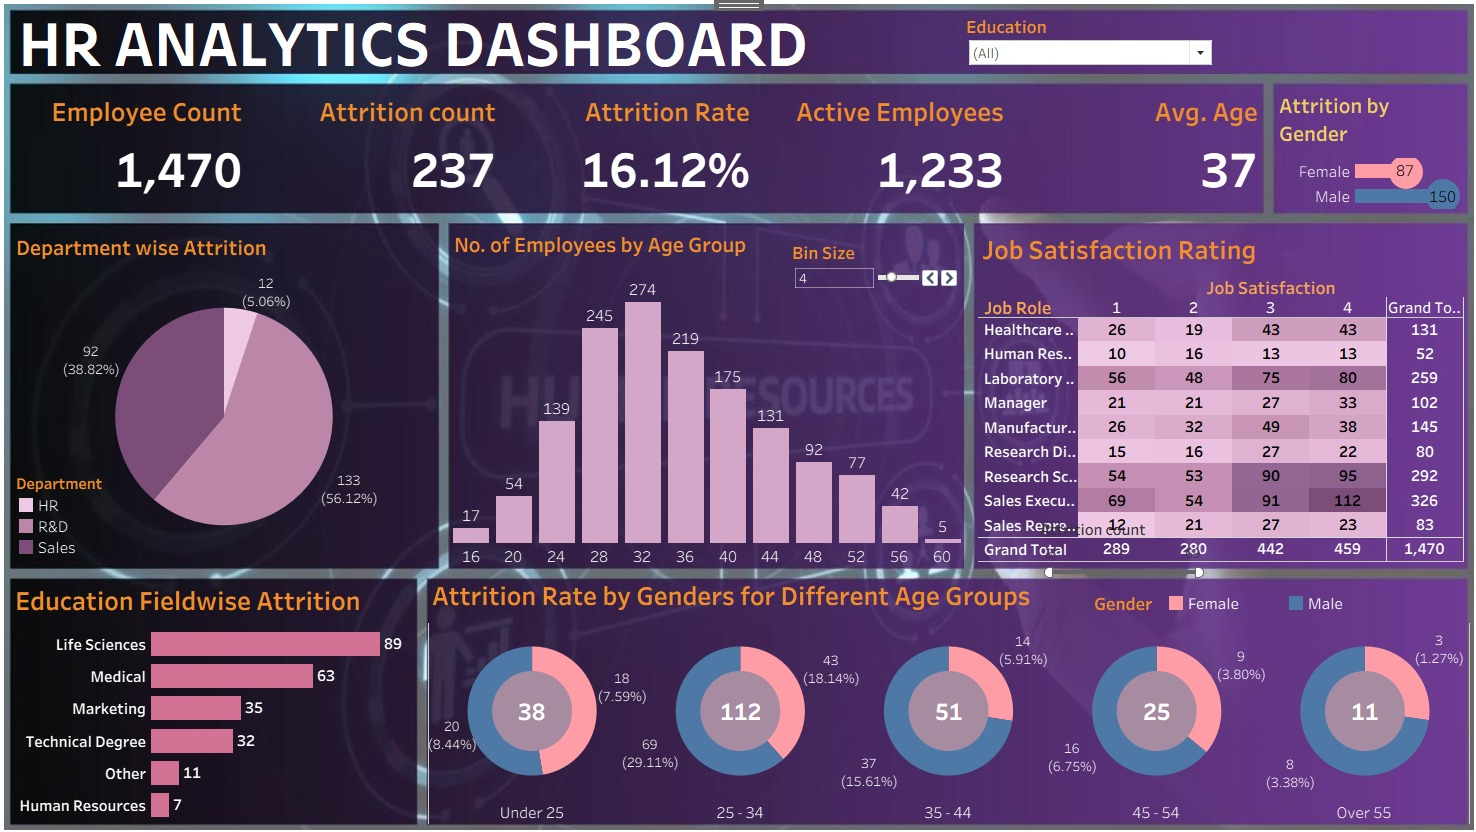

The dashboard page shown, as its layout file describes it:
{"tool":"tableau","page":{"name":"HR ANALYTICS DASHBOARD","canvas":[1000,1000],"units":"permille","ordinal":0},"visuals":[{"type":"image","param":"C:/Users/ASUS/Downloads/HR background.pptx.jpg","box":[5.1,9.4,989.9,981.2]},{"type":"text","box":[42.4,25.8,546.8,64.5]},{"type":"filter","title":"Department wise Attrition","param":"[federated.187kph103az8hl1gv0l2p1qsw0fo].[none:Education:nk]","box":[572.8,27,150,61]},{"type":"worksheet","title":"Attrition by Gender","mark":"Automatic","rows":["Gender"],"cols":["Calculation_0866152895045632","Calculation_0866152895045632"],"box":[840.5,111.5,121.5,143.2]},{"type":"worksheet","title":"KPI","mark":"Automatic","box":[39.9,112.7,789.9,142]},{"type":"worksheet","title":"No. of Employees by Age Group","mark":"Bar","rows":["Employee Count"],"cols":["Age (bin)"],"box":[318.4,274.7,321.5,402.6]},{"type":"worksheet","title":"Job Satisfaction Rating","mark":"Square","rows":["Job Role"],"cols":["Job Satisfaction"],"box":[649.4,277,307.6,392]},{"type":"worksheet","title":"Department wise Attrition","mark":"Pie","box":[39.9,278.2,267.1,390.9]},{"type":"parameter","param":"[Parameters].[Parameter 1]","box":[531.6,291.1,101.3,83.3]},{"type":"legend","title":"Department wise Attrition","param":"[federated.187kph103az8hl1gv0l2p1qsw0fo].[none:Department:nk]","box":[43,566.9,70.2,104.5]},{"type":"filter","title":"Attrition Rate by Genders for Different Age Groups","param":"[federated.187kph103az8hl1gv0l2p1qsw0fo].[sum:Calculation_0866152895045632:qk]","box":[681.6,619.7,101.3,76.3]},{"type":"worksheet","title":"Attrition Rate by Genders for Different Age Groups","mark":"Pie","rows":["Calculation_0866152919699460","Calculation_0866152919699460"],"cols":["CF_age band"],"box":[300,684.3,659.5,287.6]},{"type":"worksheet","title":"Education Fieldwise Attrition","mark":"Automatic","rows":["Education Field"],"cols":["Calculation_0866152895045632"],"box":[39.2,690.1,255.1,284]},{"type":"legend","title":"Attrition Rate by Genders for Different Age Groups","param":"[federated.187kph103az8hl1gv0l2p1qsw0fo].[none:Gender:nk]","box":[713.9,706.6,239.2,35.2]}]}

Visuals, with their boxes on the dashboard's canvas, which has no fixed pixel size, in thousandths of its width and height (x1, y1, x2, y2). These are canvas units, not pixel positions in the 1476x832 screenshot, which may show the page scaled, cropped or inside an application window:
image: region(5, 9, 995, 991)
text: region(42, 26, 589, 90)
"Department wise Attrition" filter: region(573, 27, 723, 88)
"Attrition by Gender" worksheet: region(840, 112, 962, 255)
"KPI" worksheet: region(40, 113, 830, 255)
"No. of Employees by Age Group" worksheet (Bar marks): region(318, 275, 640, 677)
"Job Satisfaction Rating" worksheet (Square marks): region(649, 277, 957, 669)
"Department wise Attrition" worksheet (Pie marks): region(40, 278, 307, 669)
parameter: region(532, 291, 633, 374)
"Department wise Attrition" legend: region(43, 567, 113, 671)
"Attrition Rate by Genders for Different Age Groups" filter: region(682, 620, 783, 696)
"Attrition Rate by Genders for Different Age Groups" worksheet (Pie marks): region(300, 684, 960, 972)
"Education Fieldwise Attrition" worksheet: region(39, 690, 294, 974)
"Attrition Rate by Genders for Different Age Groups" legend: region(714, 707, 953, 742)
